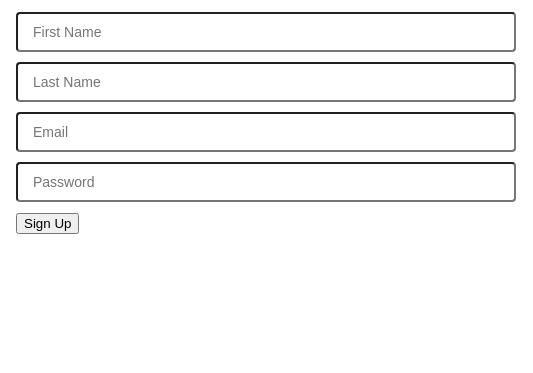
Test: SignUpForm component › shows password min x charters error message
In the password field with test id "password": (266, 182) [16,162,516,202], type "test"
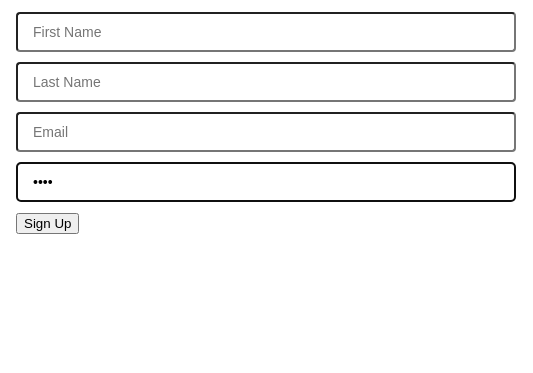
Click the button "Sign Up": (48, 224) [16,213,79,234]
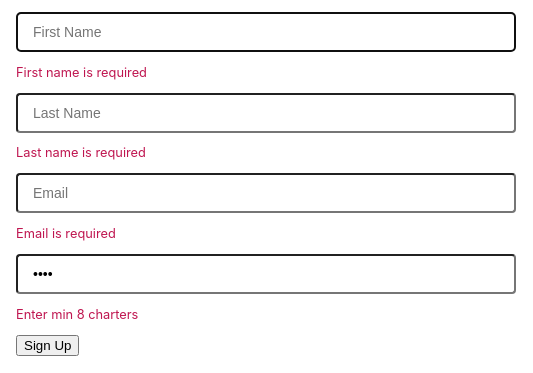
Now the text "Enter min 8 charters" is shown, box [16,307,138,322]
